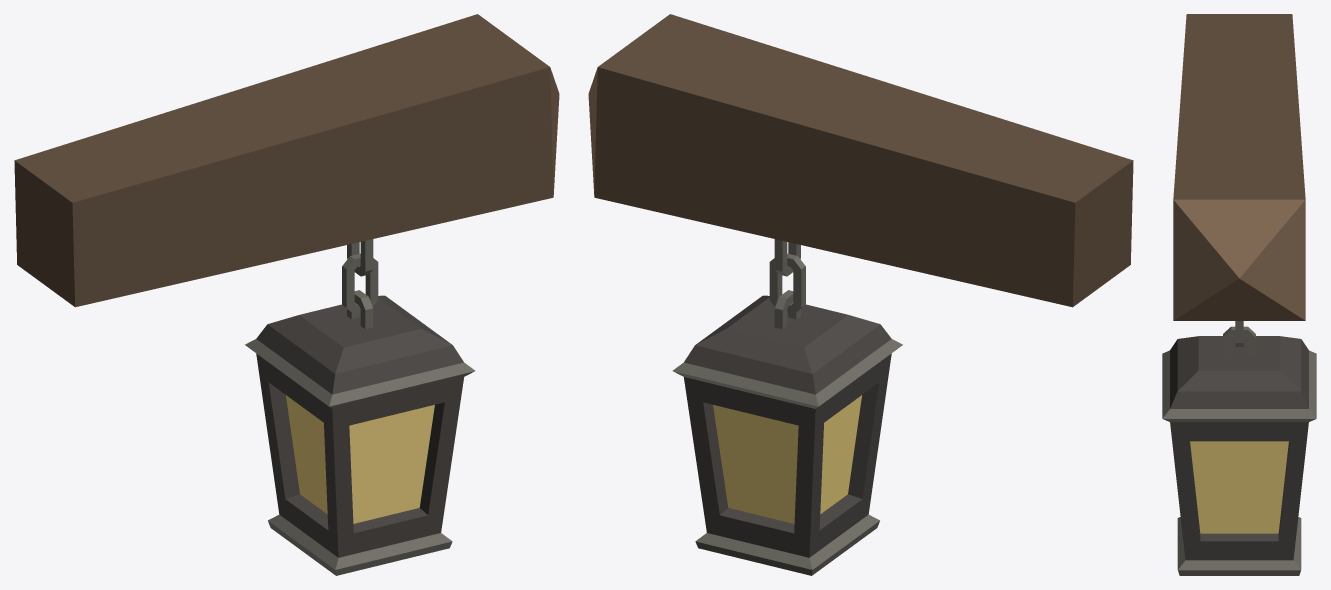
Rendered from Wall_Prop_Lamp.glb.
The picture shows the model from 3 angles, left to right: view 1: azimuth 30°, elevation 25°; view 2: azimuth 150°, elevation 25°; view 3: azimuth 270°, elevation 25°; orthographic projection. The views are drawn at different scales.
Parts seen in each view (by area): view 1: Wall_Prop_Lamp; view 2: Wall_Prop_Lamp; view 3: Wall_Prop_Lamp.
Boxes of the visible parts, x1,y1,x2,y2 form: Wall_Prop_Lamp: (14, 14, 559, 575); Wall_Prop_Lamp: (588, 14, 1133, 575); Wall_Prop_Lamp: (1162, 14, 1316, 575).
Bounding box in the file's own units: 0.8216 × 0.6999 × 0.2333.
